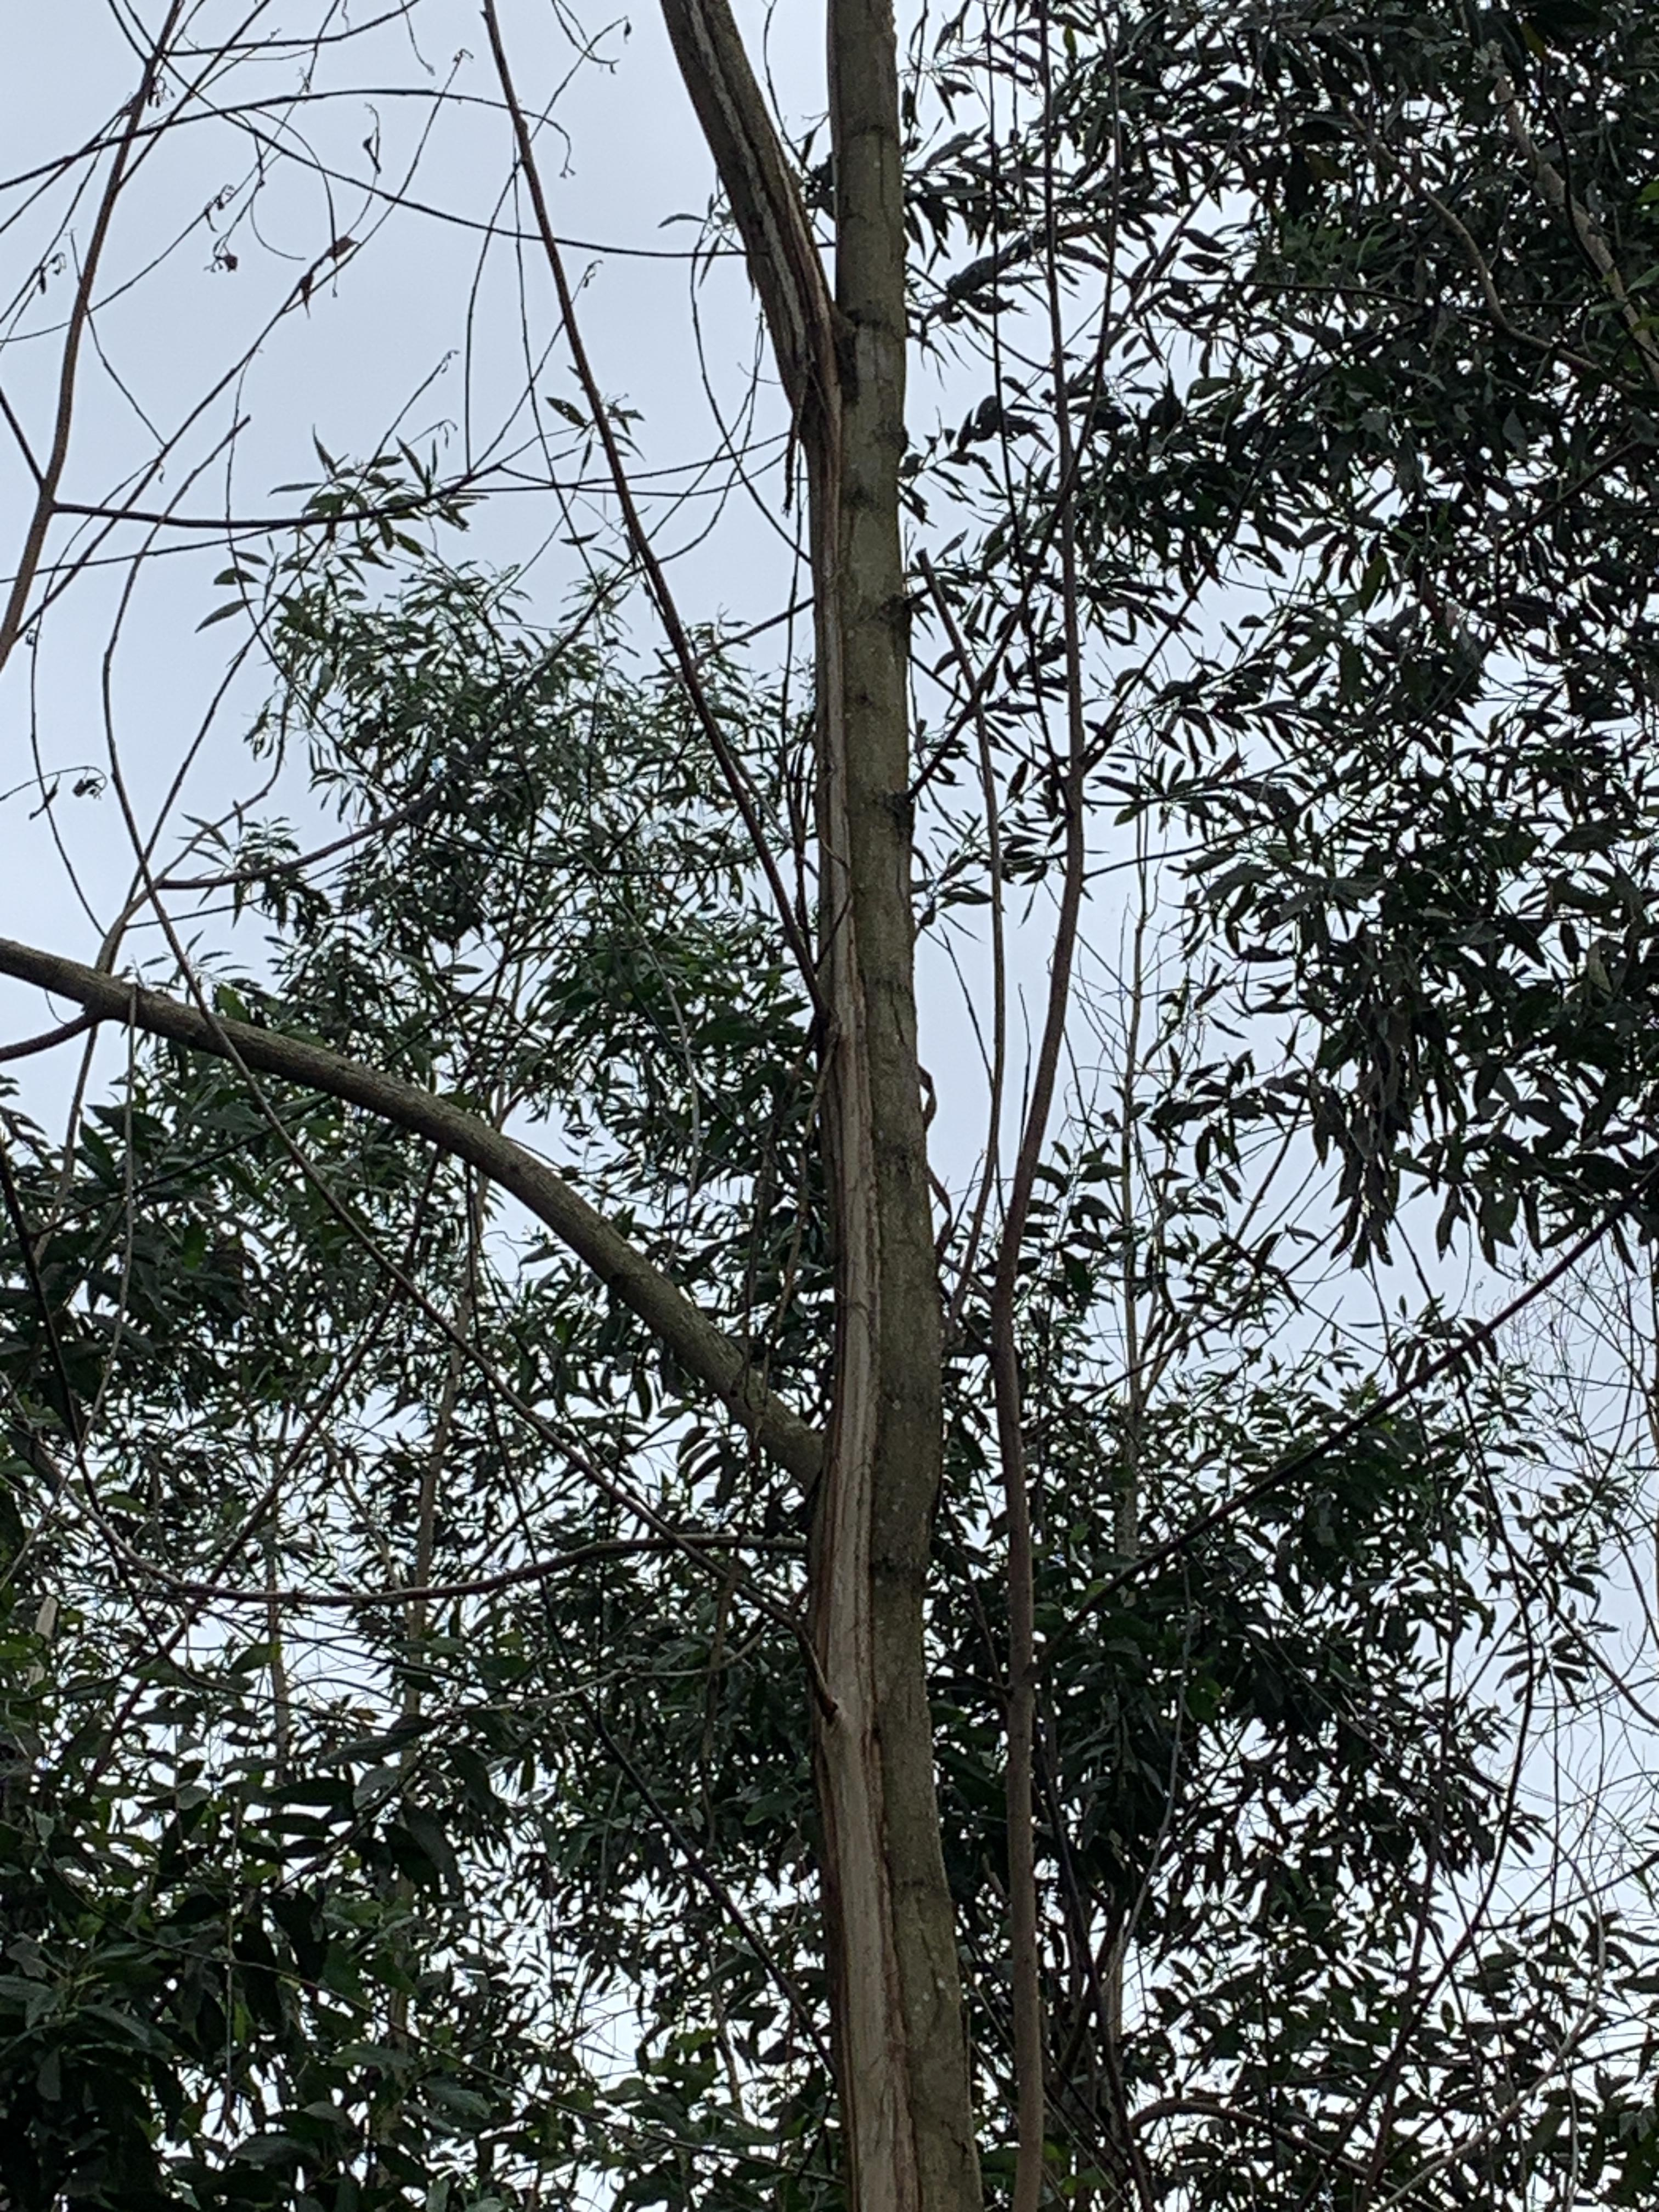Mammals Attack: (775, 359, 993, 2207)
